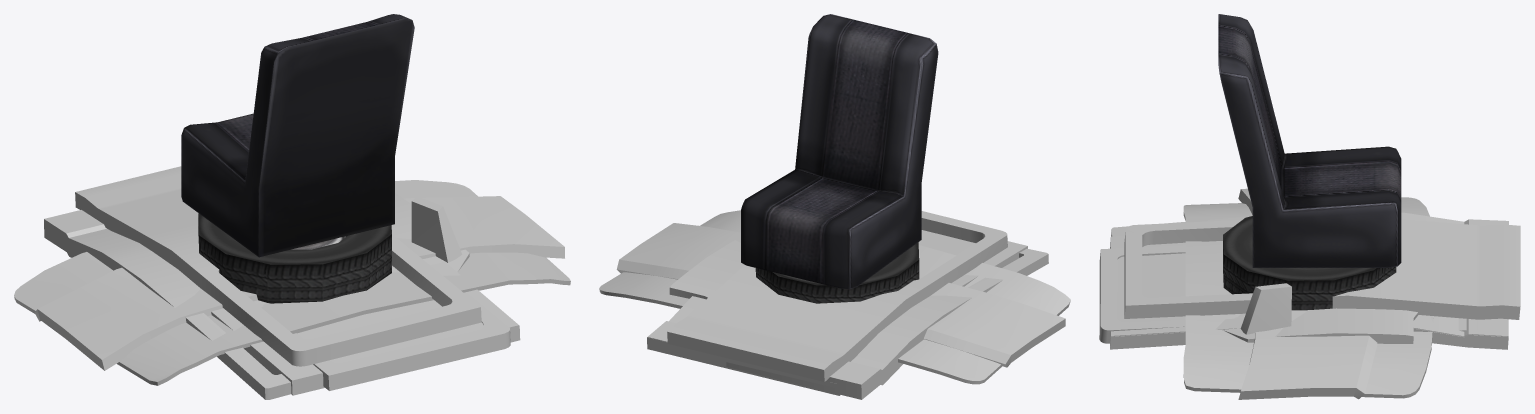
File: Vehicles_trafic_models.fbx
The picture shows the model from 3 angles, left to right: view 1: azimuth 30°, elevation 25°; view 2: azimuth 150°, elevation 25°; view 3: azimuth 270°, elevation 25°; orthographic projection. The views are drawn at different scales.
Visible parts, largest first — view 1: SeatFrontLeft_mesh, Trunk_mesh, FrontWindshield_mesh, Hood_mesh, DoorFrontLeft_mesh, Wheel_mesh, DoorMiddleRight_mesh, DoorRearRight_mesh; view 2: SeatFrontLeft_mesh, Trunk_mesh, Hood_mesh, DoorFrontLeft_mesh, FrontWindshield_mesh, Wheel_mesh, DoorRearRight_mesh, DoorMiddleRight_mesh; view 3: SeatFrontLeft_mesh, Trunk_mesh, FrontWindshield_mesh, Hood_mesh, DoorFrontLeft_mesh, Wheel_mesh, DoorRearRight_mesh, DoorMiddleRight_mesh.
Boxes of the visible parts, x1,y1,x2,y2 form: SeatFrontLeft_mesh: [181, 14, 414, 257]; Trunk_mesh: [75, 166, 510, 390]; FrontWindshield_mesh: [14, 180, 570, 385]; Hood_mesh: [34, 196, 564, 370]; DoorFrontLeft_mesh: [44, 193, 469, 399]; Wheel_mesh: [198, 213, 391, 303]; DoorMiddleRight_mesh: [211, 261, 519, 394]; DoorRearRight_mesh: [254, 267, 520, 395]; SeatFrontLeft_mesh: [741, 14, 938, 289]; Trunk_mesh: [667, 211, 1007, 381]; Hood_mesh: [616, 223, 1065, 367]; DoorFrontLeft_mesh: [669, 240, 1048, 399]; FrontWindshield_mesh: [599, 210, 1070, 384]; Wheel_mesh: [755, 242, 919, 303]; DoorRearRight_mesh: [647, 230, 974, 395]; DoorMiddleRight_mesh: [647, 241, 1027, 395]; SeatFrontLeft_mesh: [1218, 14, 1401, 267]; Trunk_mesh: [1099, 219, 1520, 343]; FrontWindshield_mesh: [1183, 197, 1433, 398]; Hood_mesh: [1238, 188, 1377, 399]; DoorFrontLeft_mesh: [1111, 212, 1508, 343]; Wheel_mesh: [1223, 216, 1396, 310]; DoorRearRight_mesh: [1110, 242, 1508, 349]; DoorMiddleRight_mesh: [1110, 236, 1508, 347].
Bounding box in the file's own units: 1.78 × 1.07 × 1.57.
